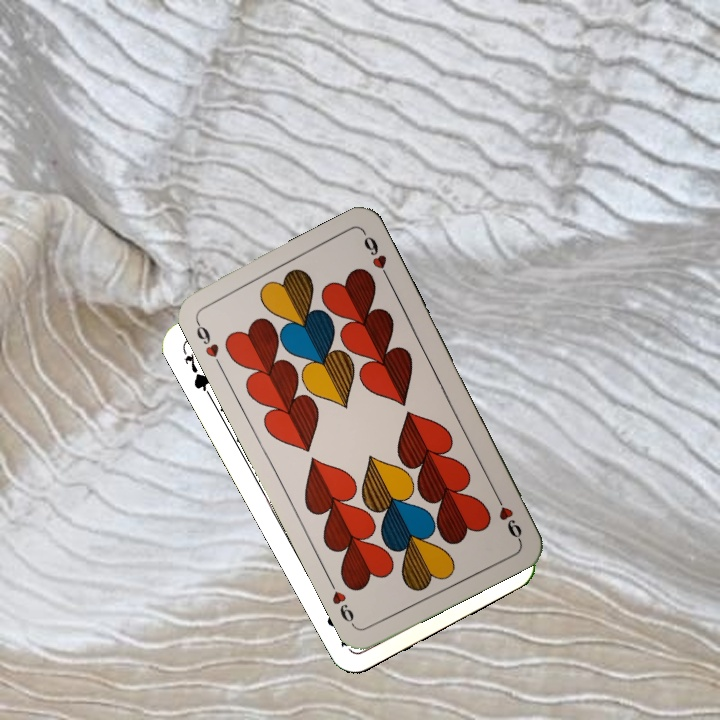G7: (178, 344, 214, 399)
H9: (490, 488, 525, 543), (191, 316, 225, 371)
